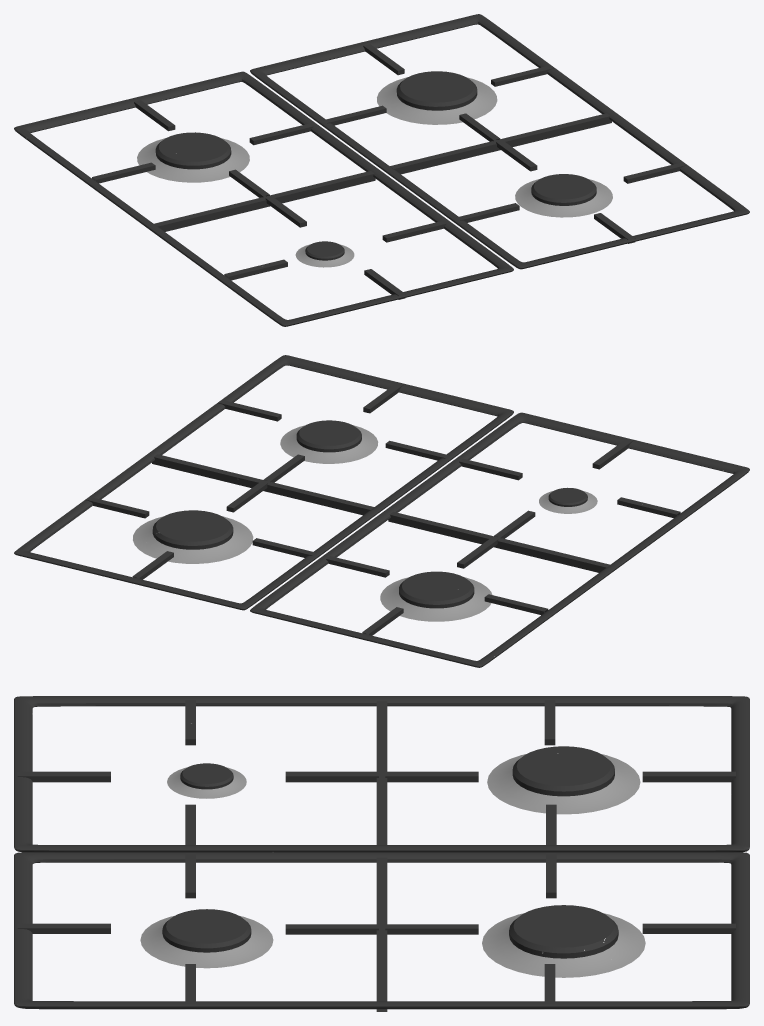
Rendered from Hob.obj.
3 renders of one model, top to bottom at view 1: azimuth 30°, elevation 25°; view 2: azimuth 150°, elevation 25°; view 3: azimuth 270°, elevation 25°, orthographic. The views are drawn at different scales.
Parts seen in each view (by area): view 1: Hob_Hobs; view 2: Hob_Hobs; view 3: Hob_Hobs.
Boxes of the visible parts, x1,y1,x2,y2 form: Hob_Hobs: (14, 14, 749, 326); Hob_Hobs: (14, 355, 749, 667); Hob_Hobs: (14, 696, 749, 1011).
Size of the model in its own units: 0.802 by 0.0205 by 0.8042.
1 material, 1 textured.
